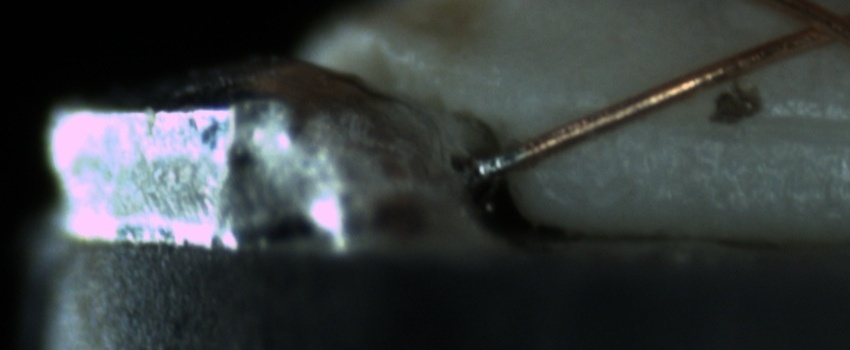CL: (772, 4, 849, 55)
DL: (617, 85, 845, 158)
TS: (468, 146, 524, 178)
